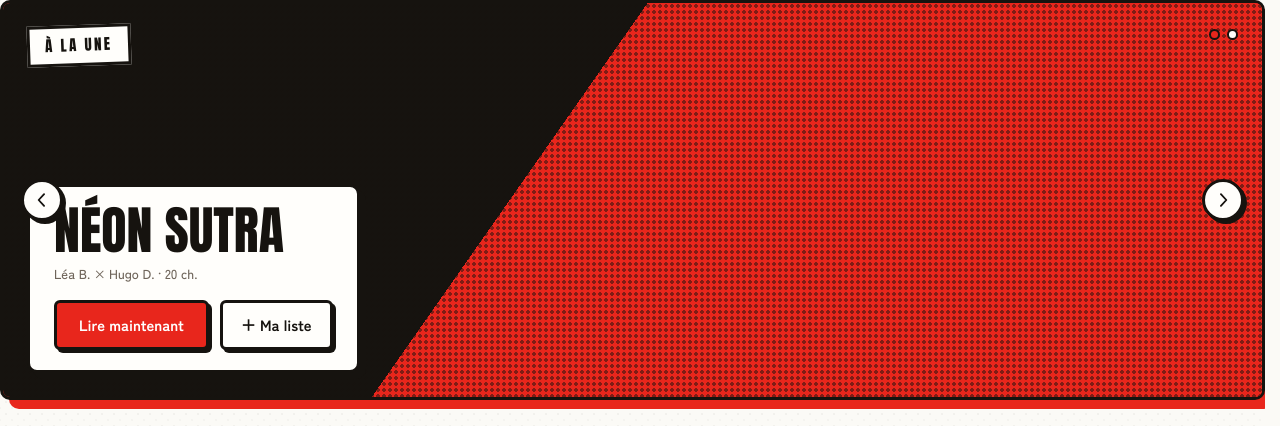
Test case: HeroCarousel › wraps around from the last slide back to the first
Click the button named "diapositive suivante" at (1223, 200), box [1202,179,1244,221]
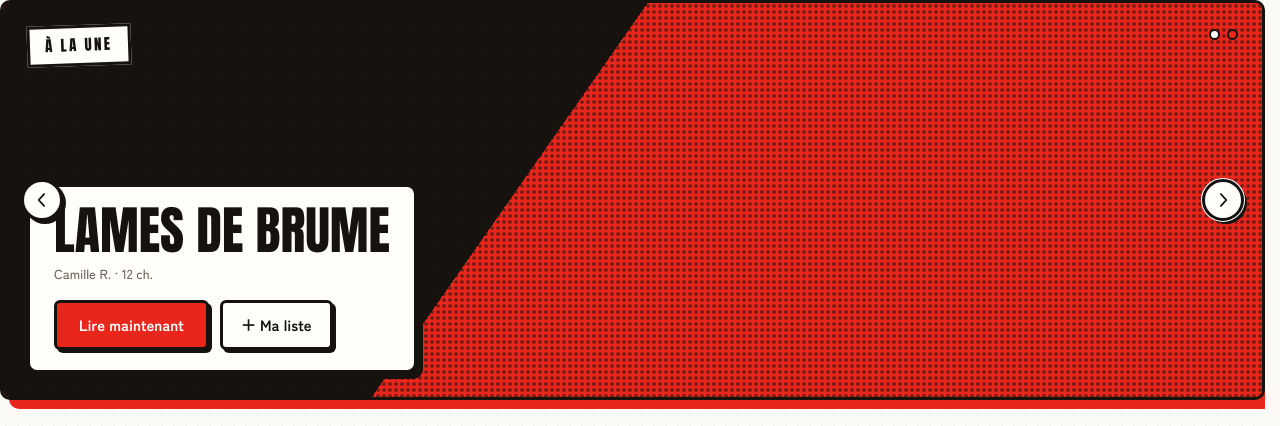
Click the button named "diapositive suivante" at (1223, 200), box [1202,179,1244,221]
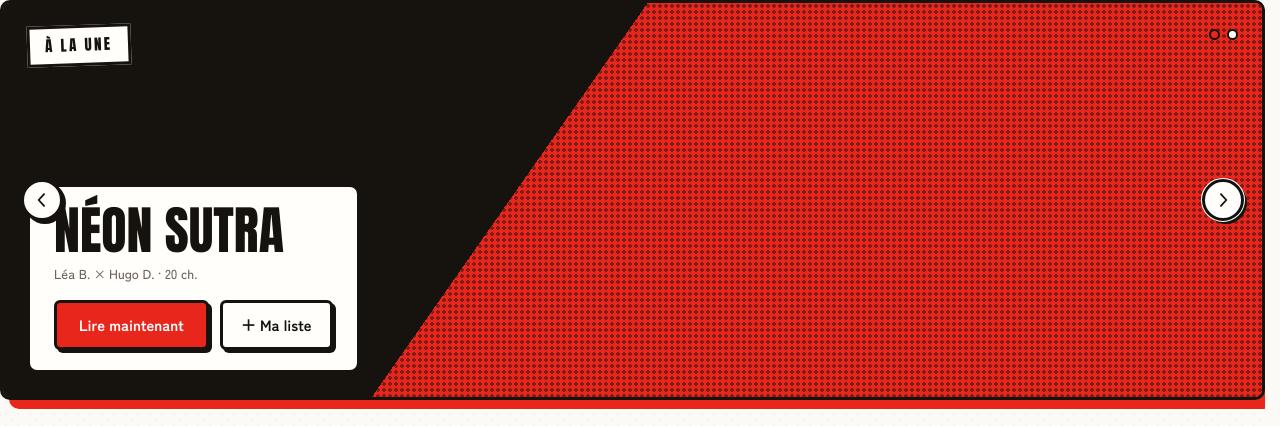
Now the text with test id "hero-slide-title" reads "Néon Sutra", box [54,191,284,269]
